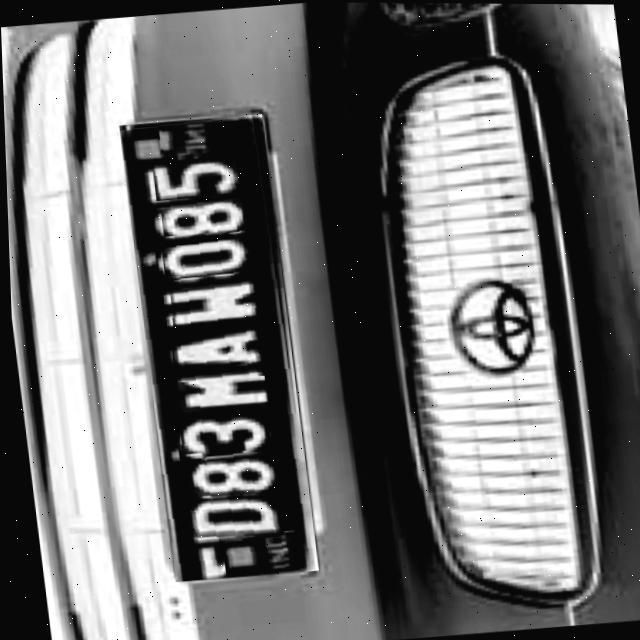0: (157, 235, 250, 277)
3: (173, 411, 267, 455)
5: (149, 153, 242, 201)
7: (155, 119, 240, 158)
8: (157, 198, 244, 236)
A: (166, 325, 260, 370)
C: (171, 374, 265, 416)
D: (180, 494, 279, 543)
IND: (216, 529, 294, 575)
Indian_registered: (118, 117, 300, 581)
L: (175, 455, 273, 500)
M: (164, 280, 255, 328)
